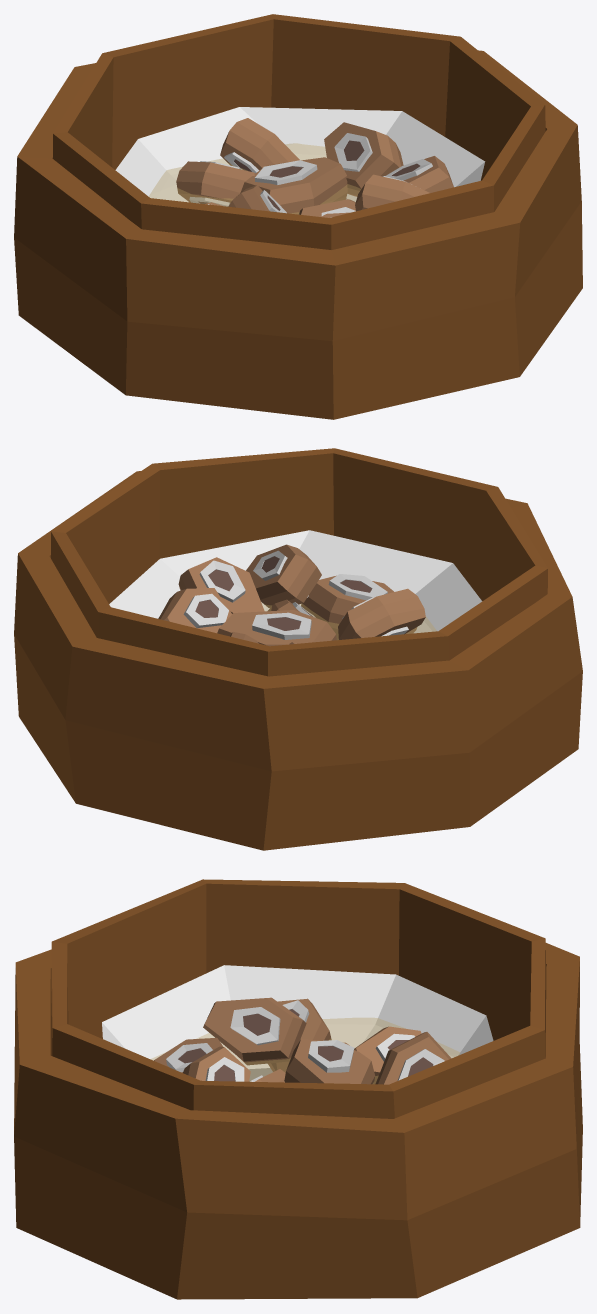
The model's file is Chopped_Pork_Rib.fbx.
3 renders of one model, top to bottom at view 1: azimuth 30°, elevation 25°; view 2: azimuth 150°, elevation 25°; view 3: azimuth 270°, elevation 25°, orthographic. The views are drawn at different scales.
Visible parts, largest first — view 1: Cylinder.009; view 2: Cylinder.009; view 3: Cylinder.009.
Boxes of the visible parts, box(x1,y1,x2,y2) form: Cylinder.009: box(14, 14, 582, 419); Cylinder.009: box(14, 448, 582, 850); Cylinder.009: box(14, 879, 582, 1299).
Size of the model in its own units: 192 by 73.6 by 190.
